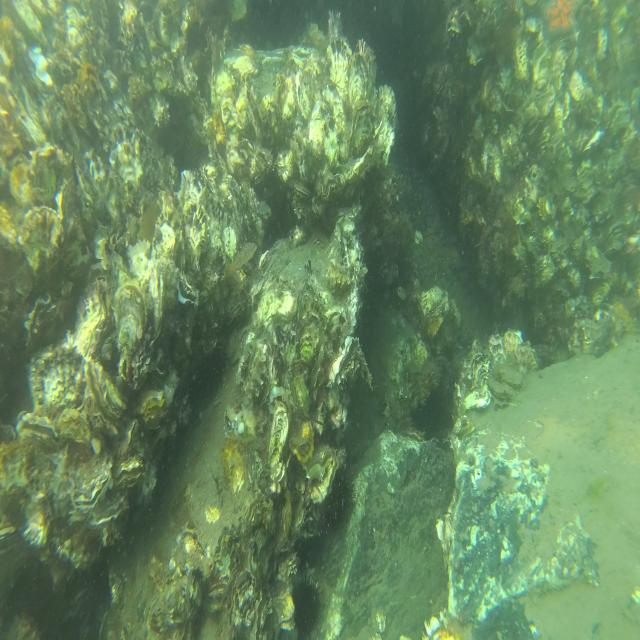echinus: (291, 572, 323, 636), (329, 472, 356, 529)
starfish: (540, 1, 581, 40)
